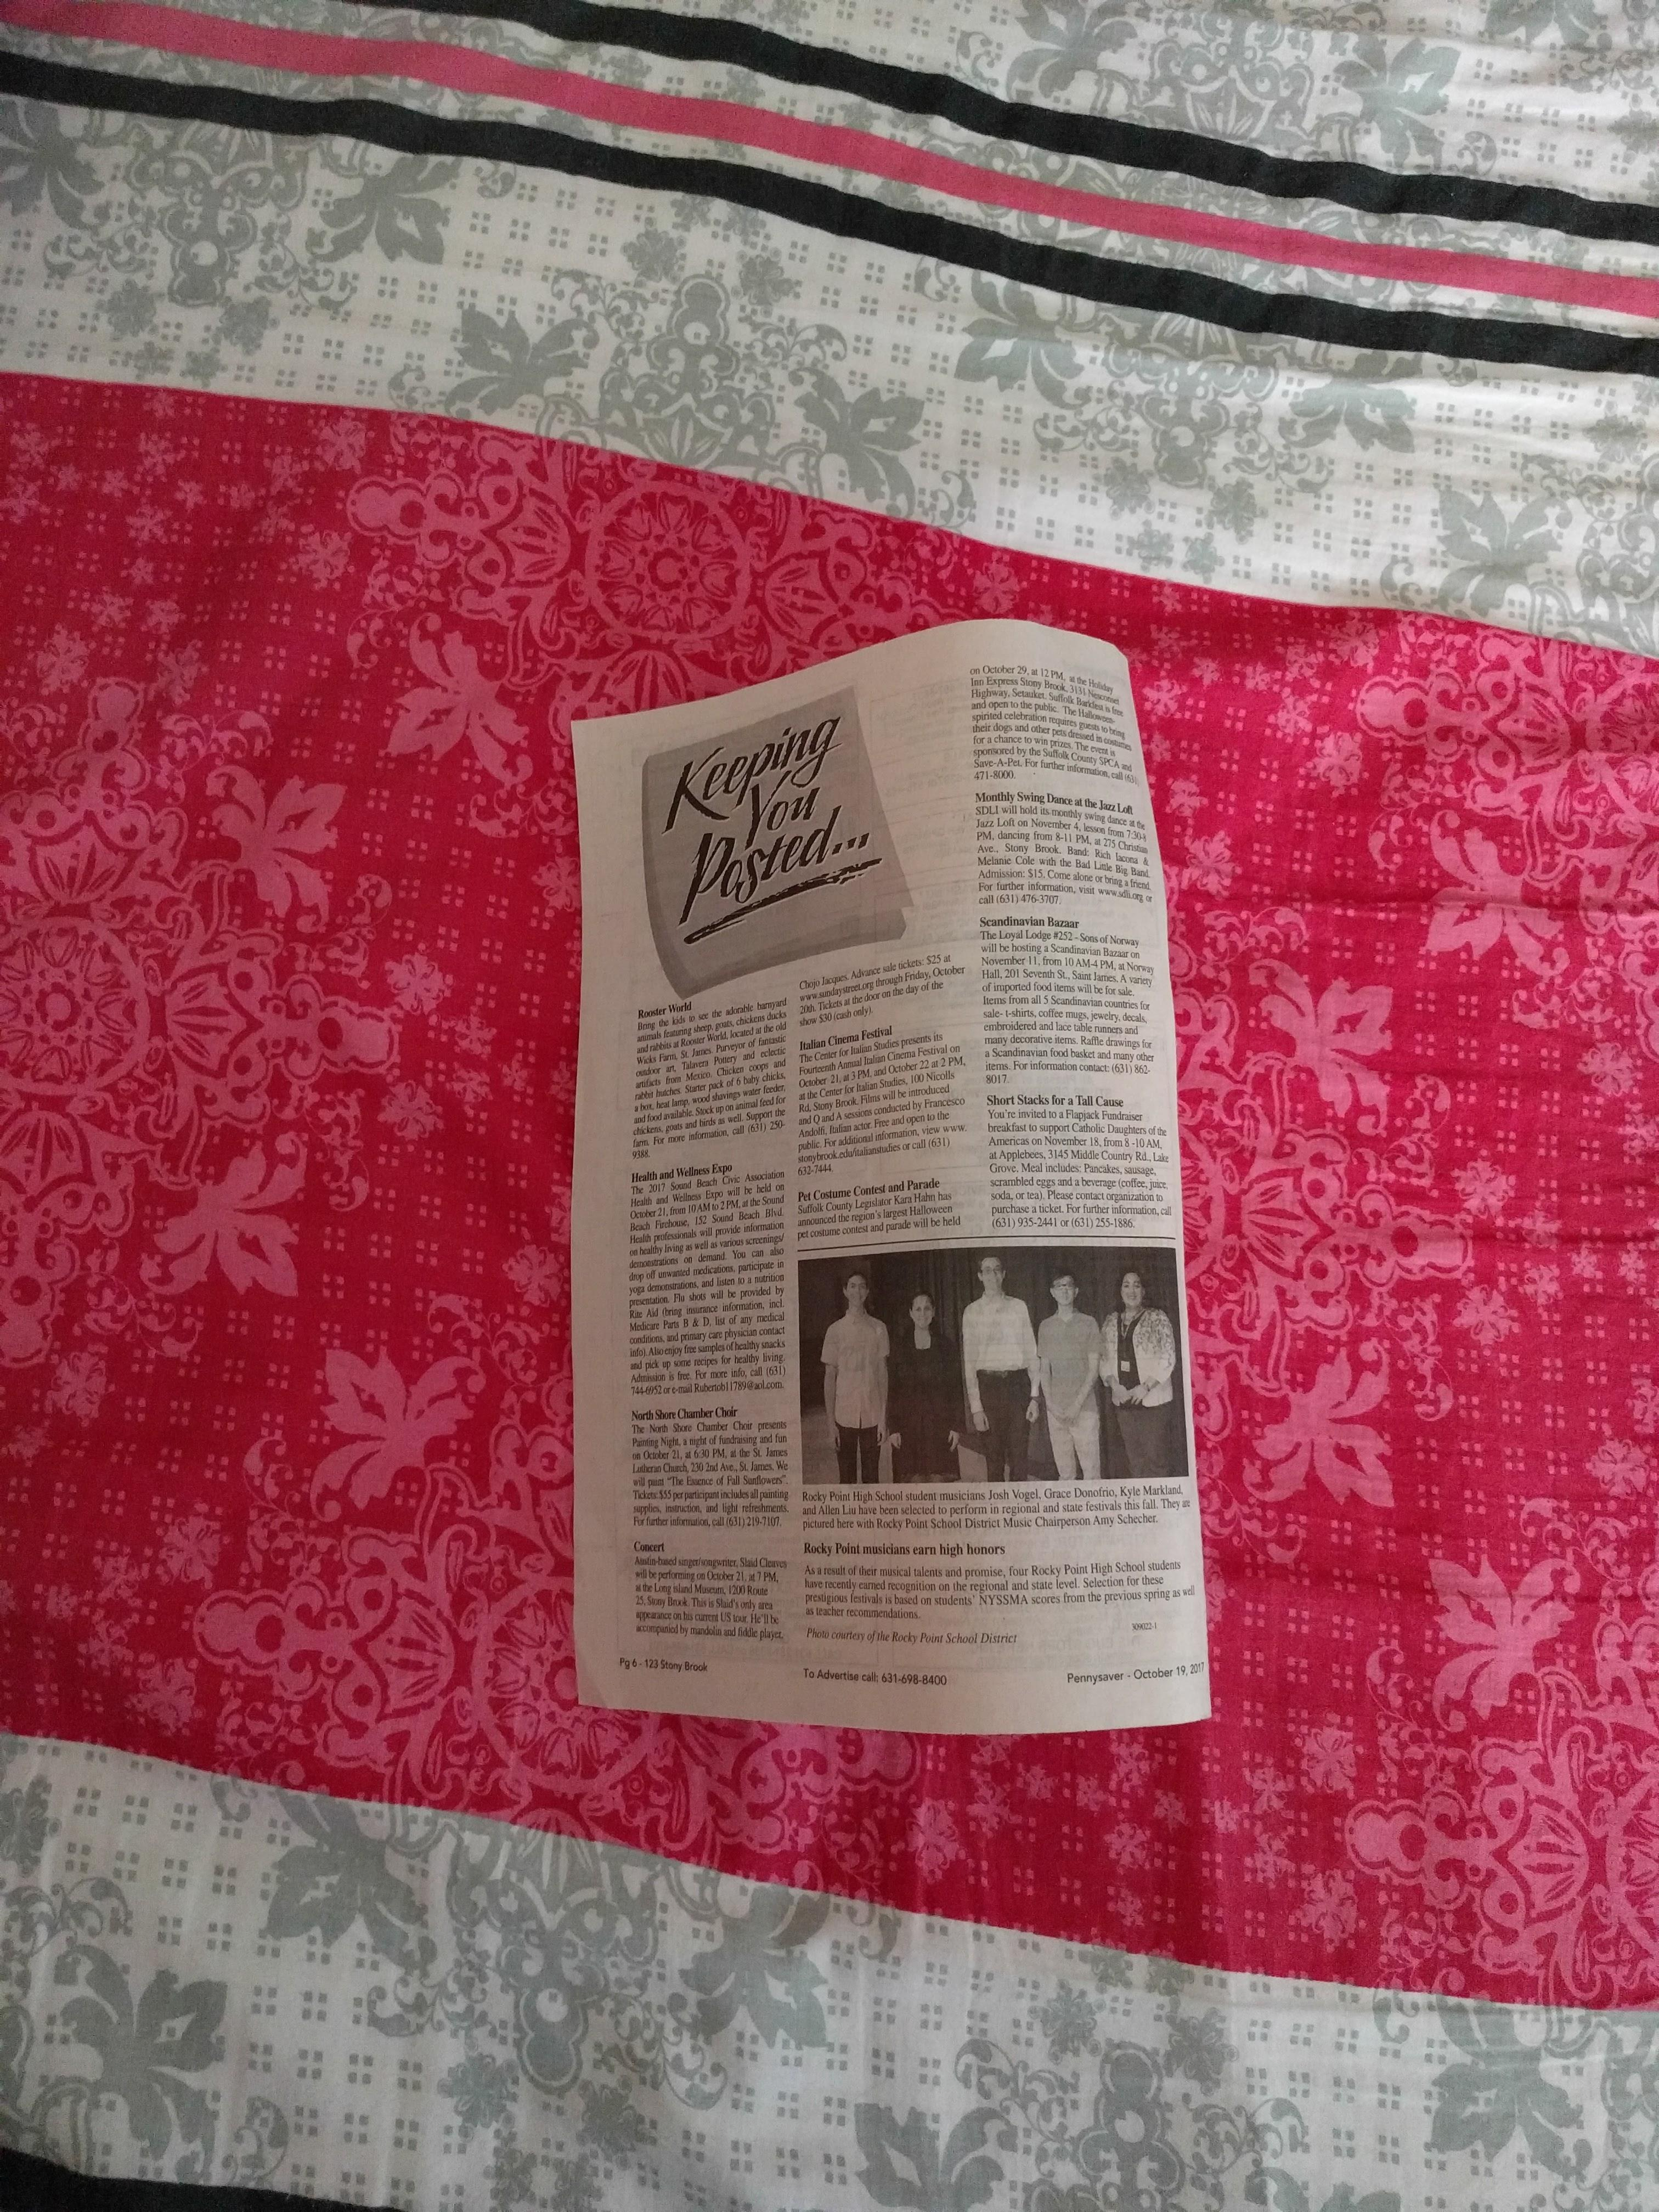paper: (383, 474, 1478, 2109)
